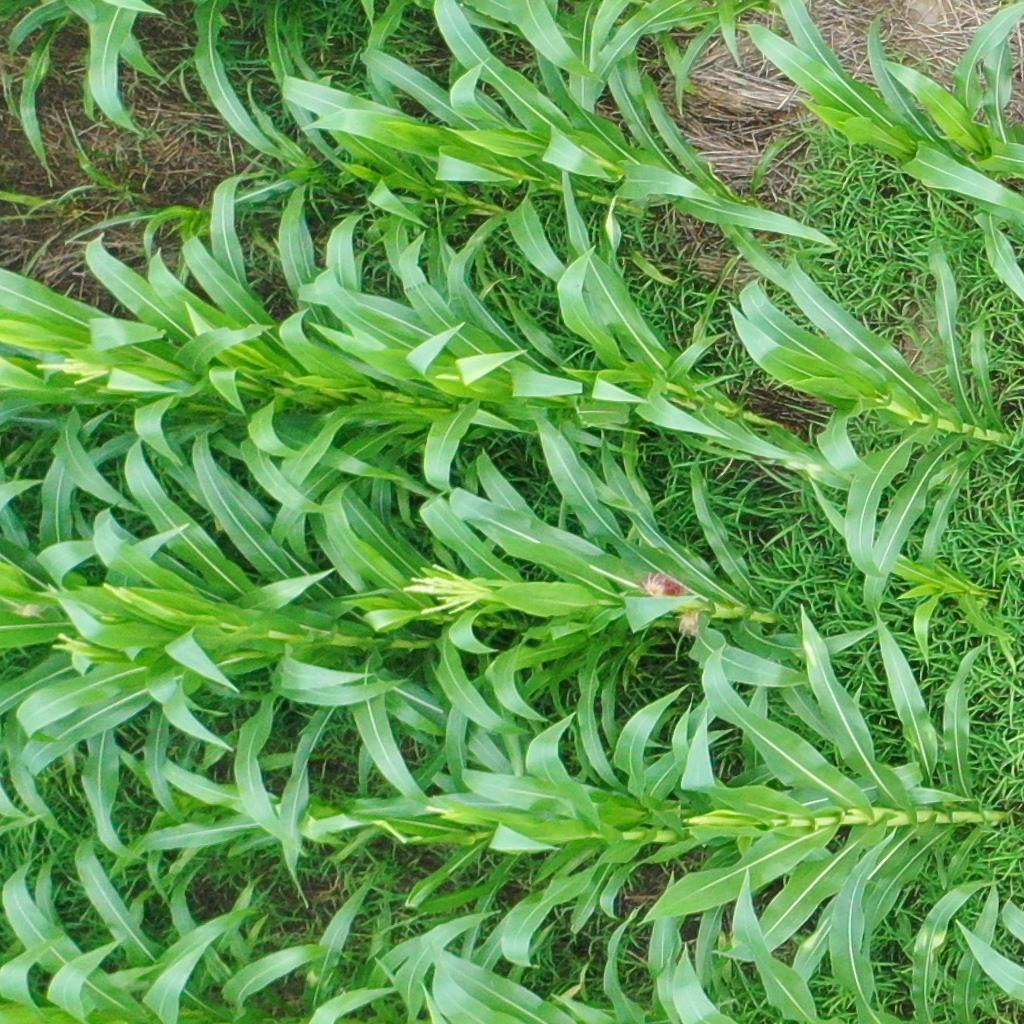Tassel: (400, 563, 483, 624), (29, 348, 110, 390), (100, 581, 141, 626), (50, 631, 93, 659), (428, 799, 461, 824)
